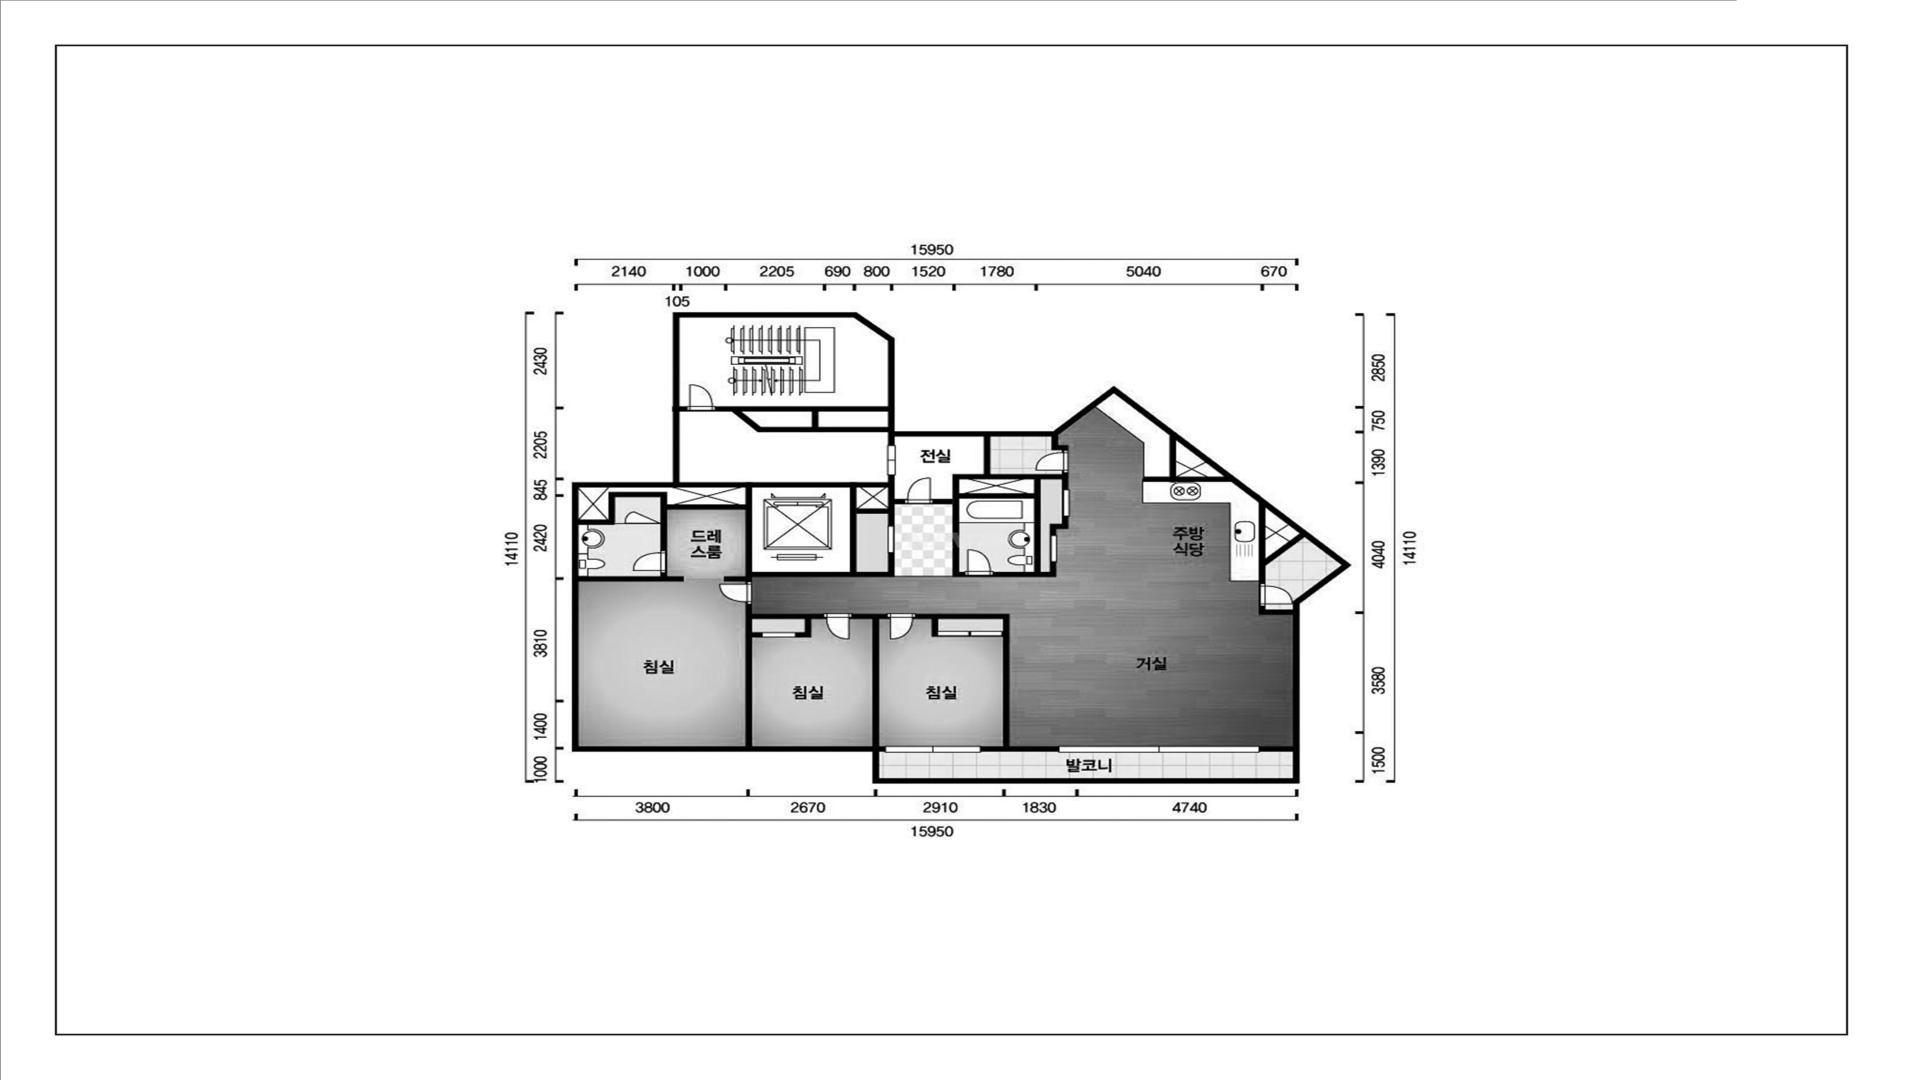background: (1, 0, 1920, 1080)
door: (719, 582, 753, 604), (1258, 584, 1292, 607), (687, 384, 715, 411), (906, 477, 934, 505), (964, 550, 992, 578), (1035, 450, 1068, 472), (824, 613, 852, 640), (887, 613, 915, 640), (633, 551, 667, 572), (615, 510, 661, 525)
wall: (572, 313, 1352, 783), (578, 316, 1341, 779), (578, 476, 906, 582), (915, 615, 1058, 752), (932, 436, 1068, 576), (745, 604, 824, 746), (752, 487, 851, 572), (852, 615, 887, 746), (715, 406, 889, 433), (1142, 435, 1232, 481), (1258, 502, 1304, 584), (741, 411, 812, 427), (959, 479, 1034, 493), (578, 572, 684, 582), (1050, 517, 1068, 534), (1258, 607, 1292, 615), (1051, 435, 1068, 450), (1259, 746, 1292, 752), (887, 436, 895, 446), (679, 406, 687, 411), (878, 746, 885, 752)
window: (1059, 746, 1259, 753), (885, 746, 981, 753)
